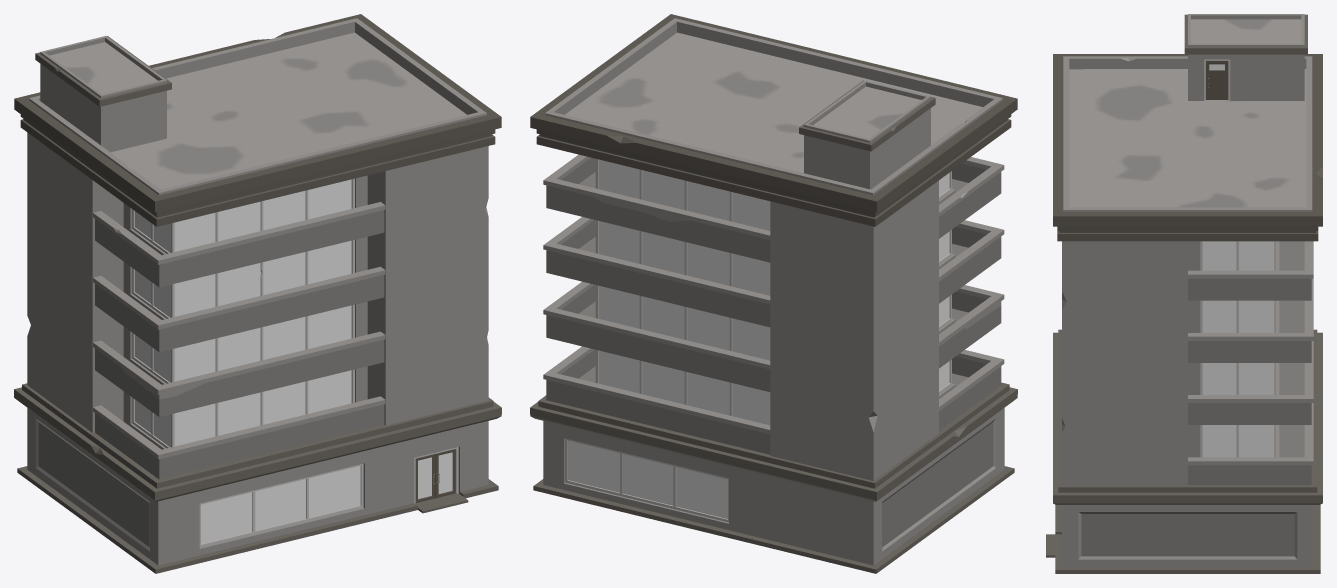
Rendered from SM_Bldg_City_Commercial_04.fbx.
3 views of the same model, side by side, from view 1: azimuth 30°, elevation 25°; view 2: azimuth 150°, elevation 25°; view 3: azimuth 270°, elevation 25° (orthographic). The views are drawn at different scales.
Parts seen in each view (by area): view 1: SM_Bldg_City_Commercial_04, SM_Bldg_City_Commercial_04_Glass; view 2: SM_Bldg_City_Commercial_04, SM_Bldg_City_Commercial_04_Glass; view 3: SM_Bldg_City_Commercial_04, SM_Bldg_City_Commercial_04_Glass.
Boxes of the visible parts, x1,y1,x2,y2 form: SM_Bldg_City_Commercial_04: (14,14,501,573); SM_Bldg_City_Commercial_04_Glass: (135,179,360,543); SM_Bldg_City_Commercial_04: (530,14,1017,573); SM_Bldg_City_Commercial_04_Glass: (568,159,949,518); SM_Bldg_City_Commercial_04: (1046,14,1322,573); SM_Bldg_City_Commercial_04_Glass: (1202,241,1274,457).
Bounding box in the file's own units: 1681 × 1960 × 1211.
